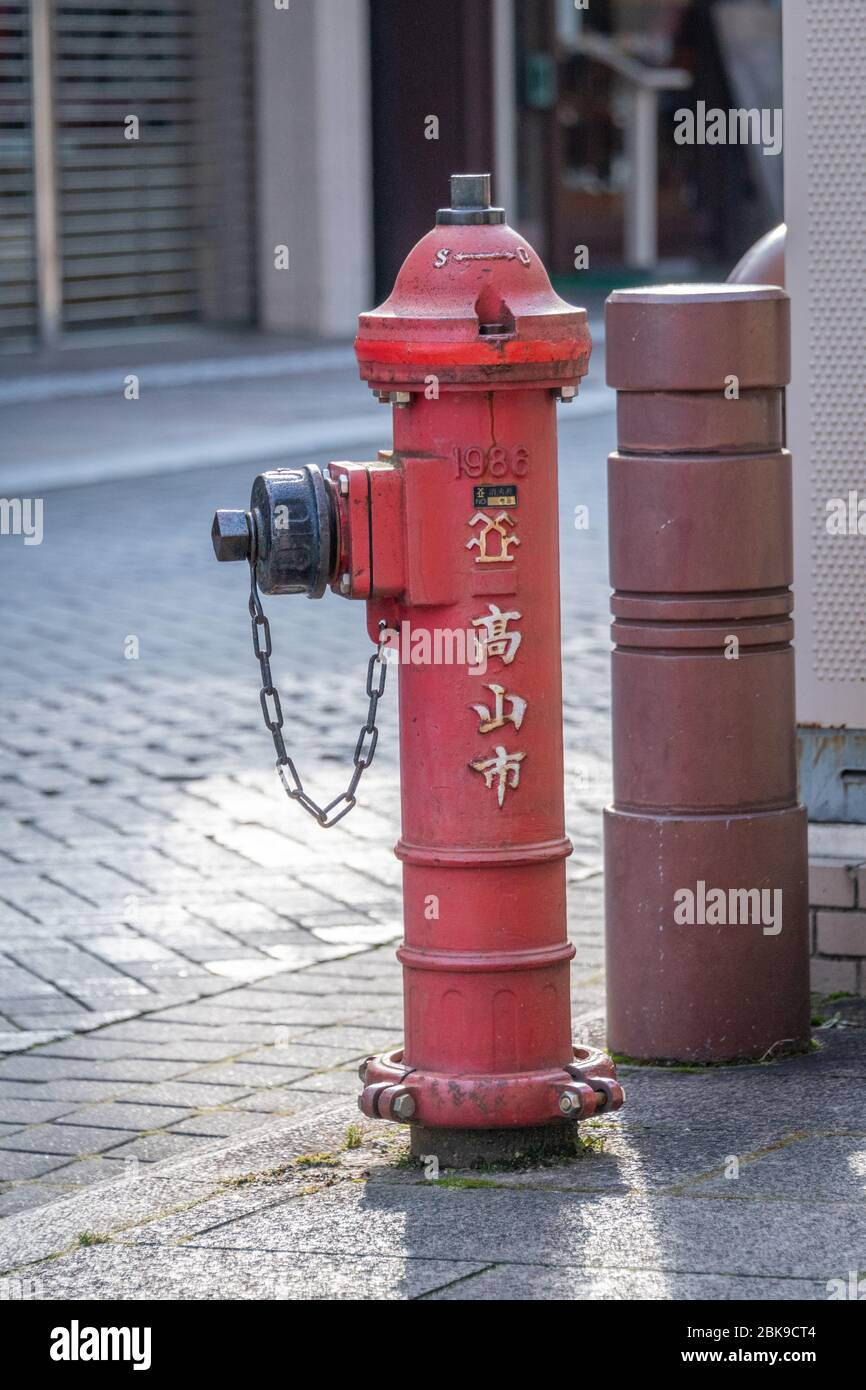FireHydrant: (196, 158, 659, 1163)
